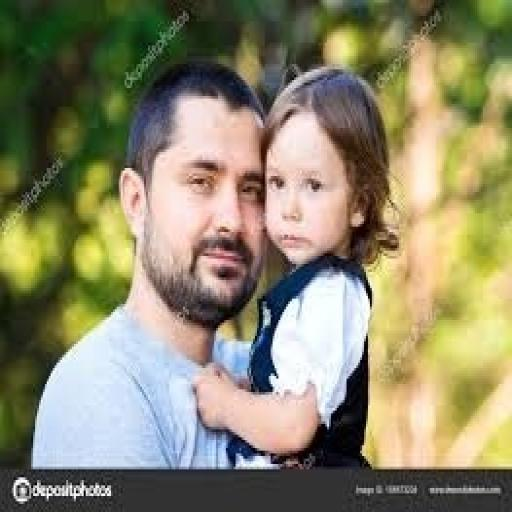hugging: (29, 56, 403, 472)
